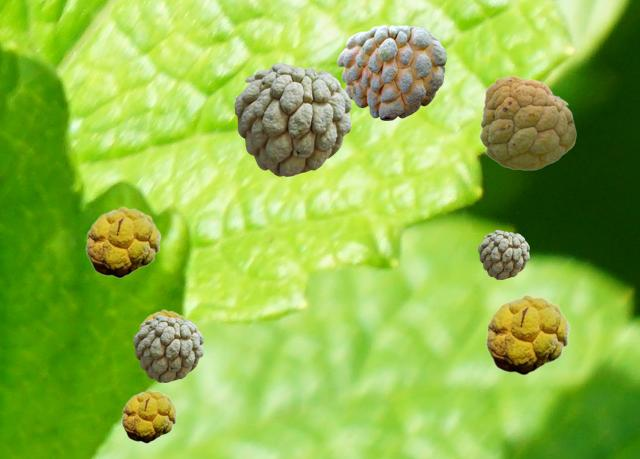atis: (234, 63, 350, 175), (337, 25, 445, 119), (479, 75, 575, 169), (485, 294, 569, 374), (85, 206, 160, 277), (133, 315, 202, 381), (121, 389, 176, 442), (478, 230, 528, 278), (138, 309, 184, 330)
